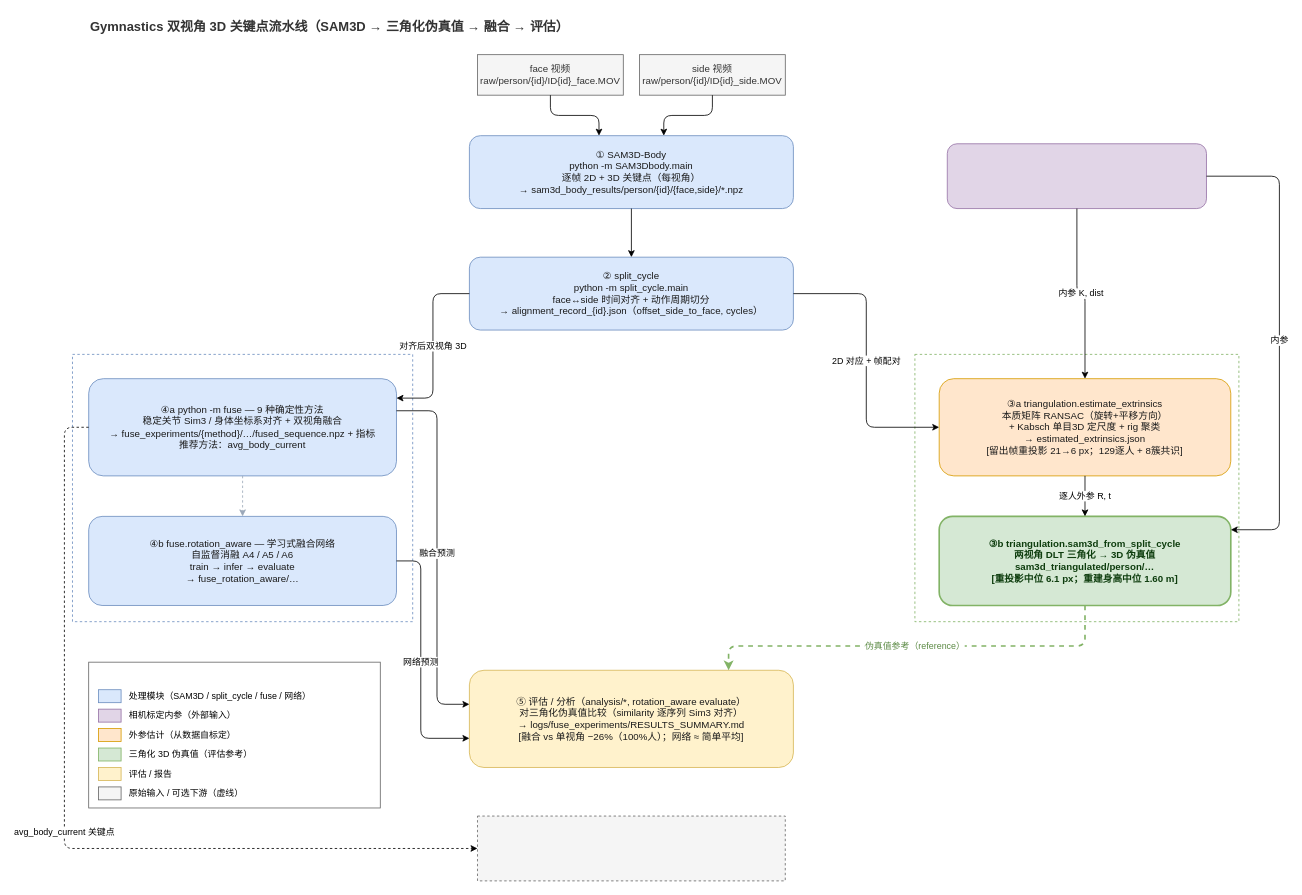
This 1302x895 diagram has some shape labels left out. Here are the shapes that lost their labels. From the top down, the box of each, then its label:
(946, 143, 1206, 209): 相机标定（内参） 棋盘格 K, dist（每台相机） logs/calibration_vis/IMG_*/*.npz
(72, 354, 413, 622): 融合路径（Fusion path）
(914, 354, 1239, 622): 三角化伪真值生成路径（GT path）
(88, 661, 380, 808): 图例
(477, 815, 785, 881): ⑥ project/train（可选下游） 用融合关键点（avg_body_current）做动作分类 → logs/train/
